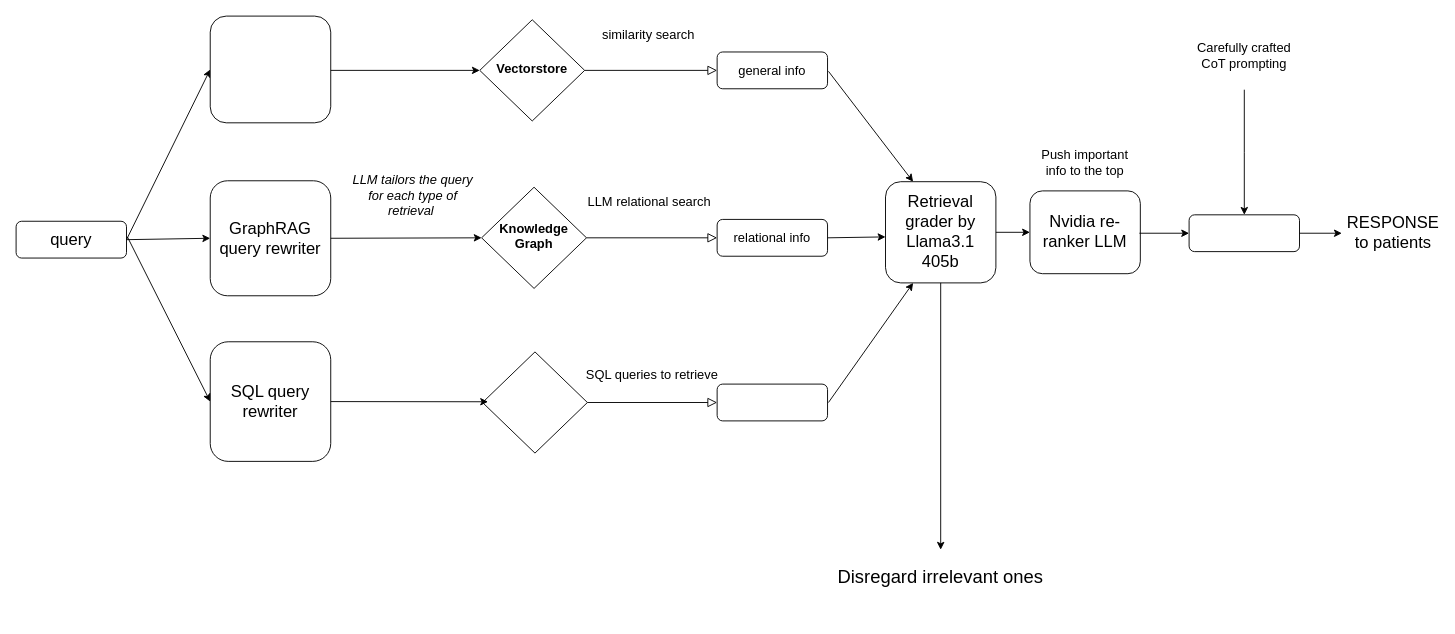
The diagram is 1455 pixels wide and 634 high, and some of its shapes have lost their labels. Here are the shapes that lost their labels. From the top down, the box of each, then its label:
(209, 15, 331, 123): Original query
(1188, 214, 1300, 252): Llama3.3 70b
(482, 351, 587, 453): SQL
(716, 383, 828, 421): table values
